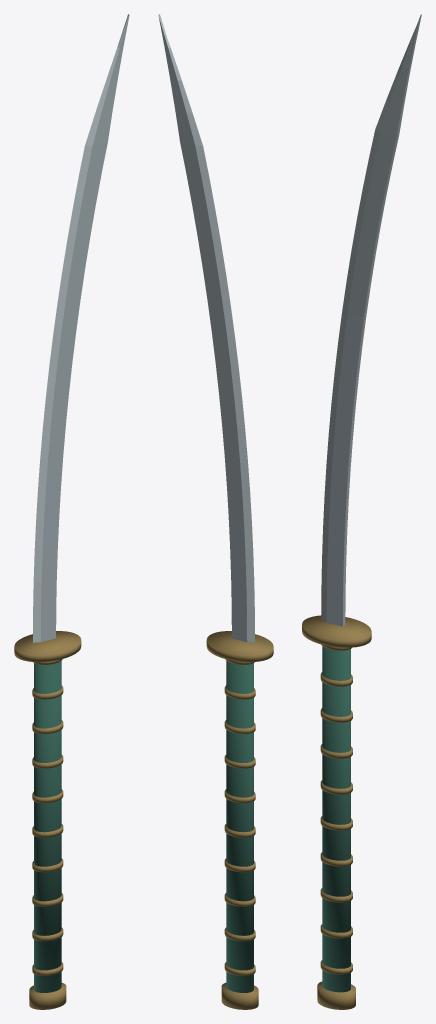
The model's file is nodachi.fbx.
3 views of the same model, side by side, from view 1: azimuth 30°, elevation 25°; view 2: azimuth 150°, elevation 25°; view 3: azimuth 330°, elevation 25° (orthographic). The views are drawn at different scales.
Visible parts, largest first — view 1: NodachiBlade, NodachiHandle, NodachiGuardCore, NodachiPommel; view 2: NodachiBlade, NodachiHandle, NodachiGuardCore, NodachiPommel; view 3: NodachiBlade, NodachiHandle, NodachiGuardCore, NodachiPommel.
Part boxes in pixels (bbox=[...]): NodachiBlade: bbox=[33, 14, 129, 642]; NodachiHandle: bbox=[34, 661, 61, 992]; NodachiGuardCore: bbox=[14, 631, 81, 662]; NodachiPommel: bbox=[29, 982, 66, 1009]; NodachiBlade: bbox=[158, 14, 254, 642]; NodachiHandle: bbox=[226, 661, 253, 992]; NodachiGuardCore: bbox=[206, 631, 273, 662]; NodachiPommel: bbox=[221, 982, 258, 1009]; NodachiBlade: bbox=[321, 14, 421, 626]; NodachiHandle: bbox=[322, 646, 350, 992]; NodachiGuardCore: bbox=[302, 615, 371, 647]; NodachiPommel: bbox=[317, 981, 355, 1009].
Bounding box in the file's own units: 0.1933 × 1.6 × 0.0767.
